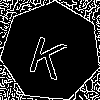K: (26, 26, 72, 81)
